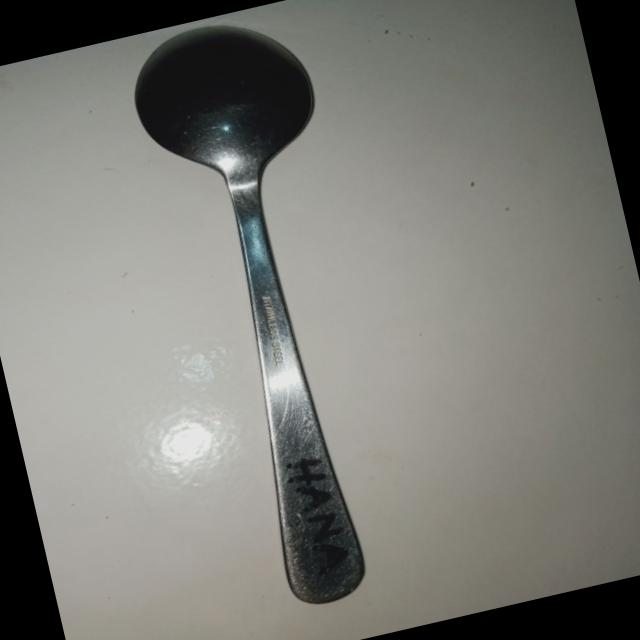spoon: (116, 0, 450, 626)
